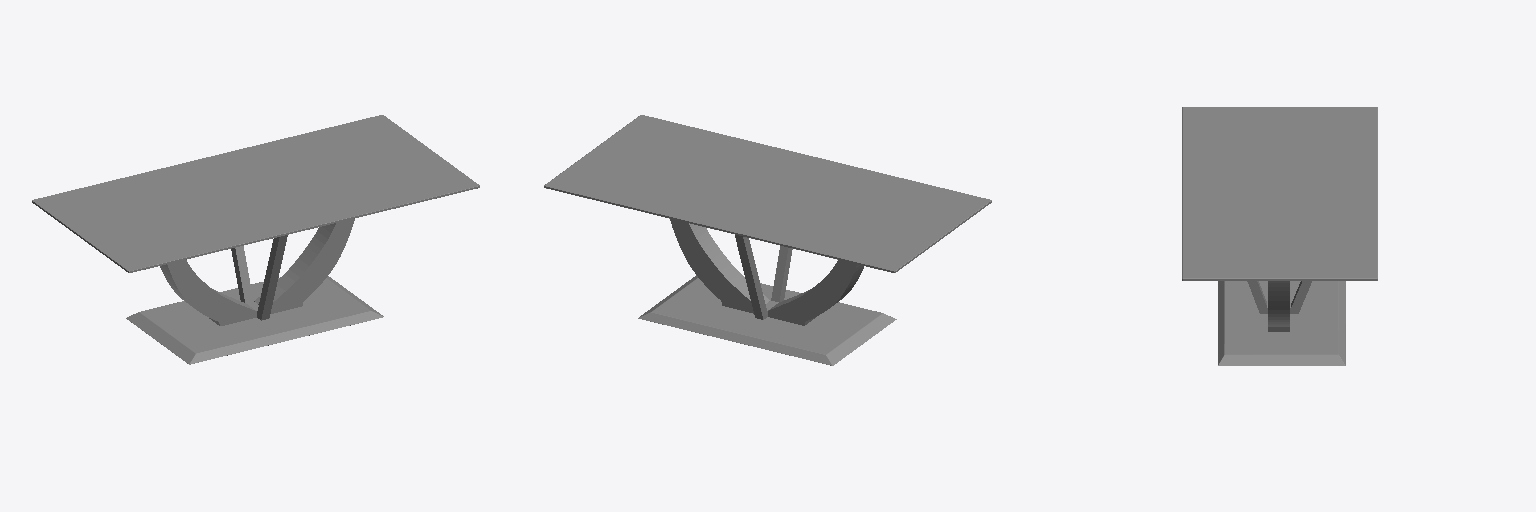
The model's file is table.obj.
3 renders of one model, left to right at view 1: azimuth 30°, elevation 25°; view 2: azimuth 150°, elevation 25°; view 3: azimuth 270°, elevation 25°, orthographic.
Parts seen in each view (by area): view 1: Box[number redacted], Box[number redacted], Line024, Line021, Line023; view 2: Box[number redacted], Box[number redacted], Line024, Line021, Line023; view 3: Box[number redacted], Box[number redacted], Line024, Line023.
Boxes of the visible parts, x1,y1,x2,y2 form: Box[number redacted]: [32, 115, 479, 272]; Box[number redacted]: [126, 276, 383, 364]; Line024: [254, 219, 354, 313]; Line021: [160, 260, 256, 325]; Line023: [231, 235, 287, 320]; Box[number redacted]: [544, 115, 991, 272]; Box[number redacted]: [638, 275, 896, 365]; Line024: [670, 219, 769, 313]; Line021: [768, 260, 863, 325]; Line023: [735, 235, 792, 319]; Box[number redacted]: [1182, 107, 1377, 280]; Box[number redacted]: [1218, 281, 1345, 365]; Line024: [1268, 281, 1289, 331]; Line023: [1247, 281, 1311, 313].
Bounding box in the file's own units: 53.31 × 18.28 × 25.64.